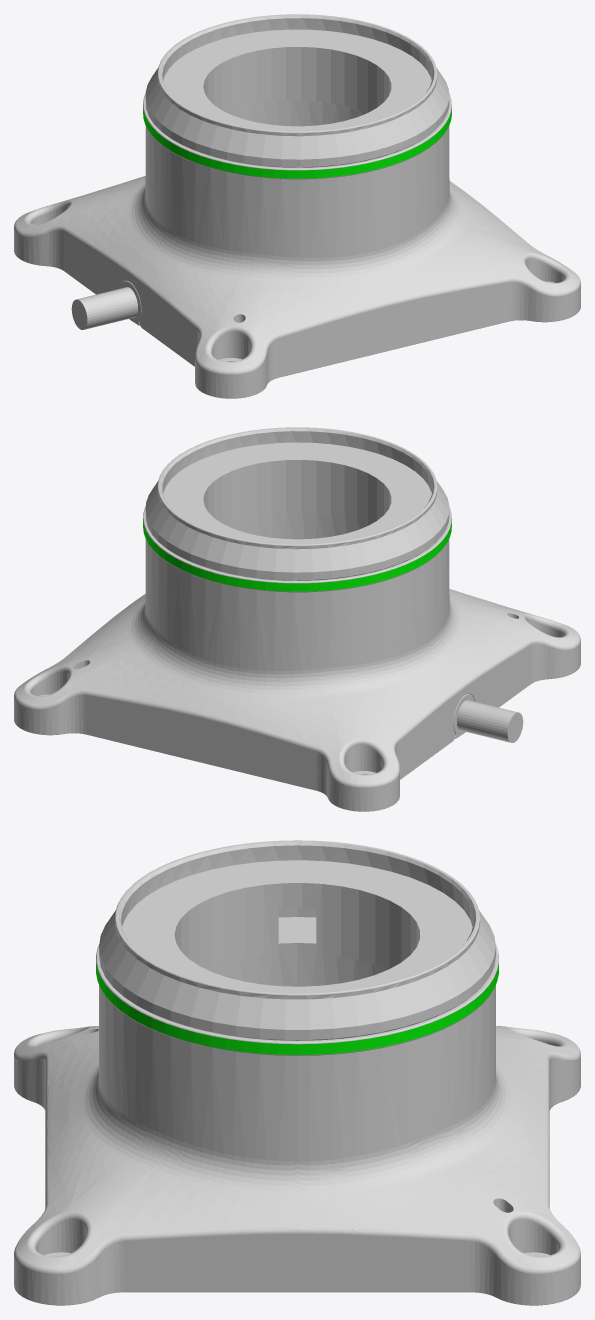
The model's file is symphony5_0_w.dae.
3 views of the same model, one above another, from view 1: azimuth 30°, elevation 25°; view 2: azimuth 150°, elevation 25°; view 3: azimuth 270°, elevation 25° (orthographic). The views are drawn at different scales.
Parts seen in each view (by area): view 1: link0; view 2: link0; view 3: link0.
Part boxes in pixels (bbox=[...]): link0: bbox=[14, 14, 580, 398]; link0: bbox=[14, 427, 580, 811]; link0: bbox=[14, 840, 580, 1305].
Size of the model in its own units: 0.1942 by 0.18 by 0.0944.
